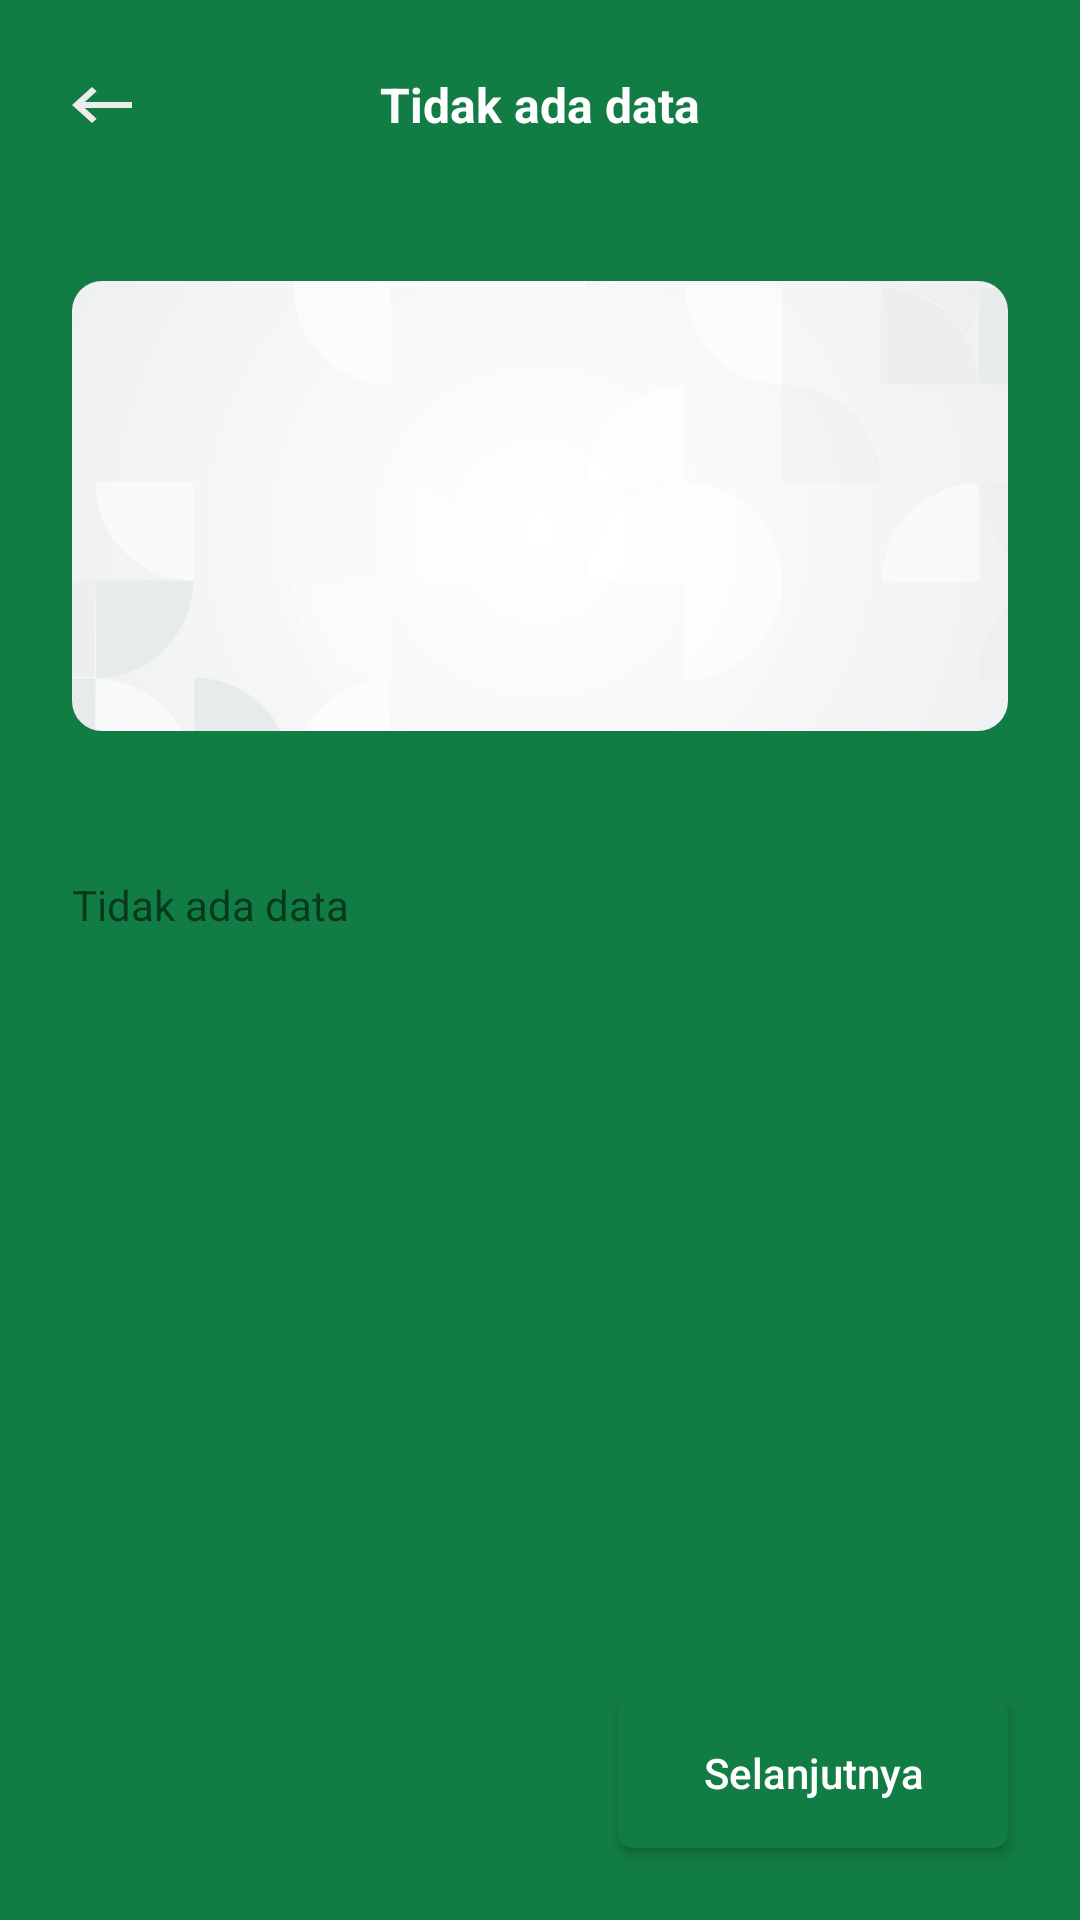

Named icons in this screenshot (1080px x 1920px) and their bounding boxes, BBox(x1, y1, x2, y2):
Tombol Mundur: BBox(72, 87, 132, 123)
